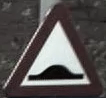Speed Breaker ahead: (7, 8, 96, 93)
